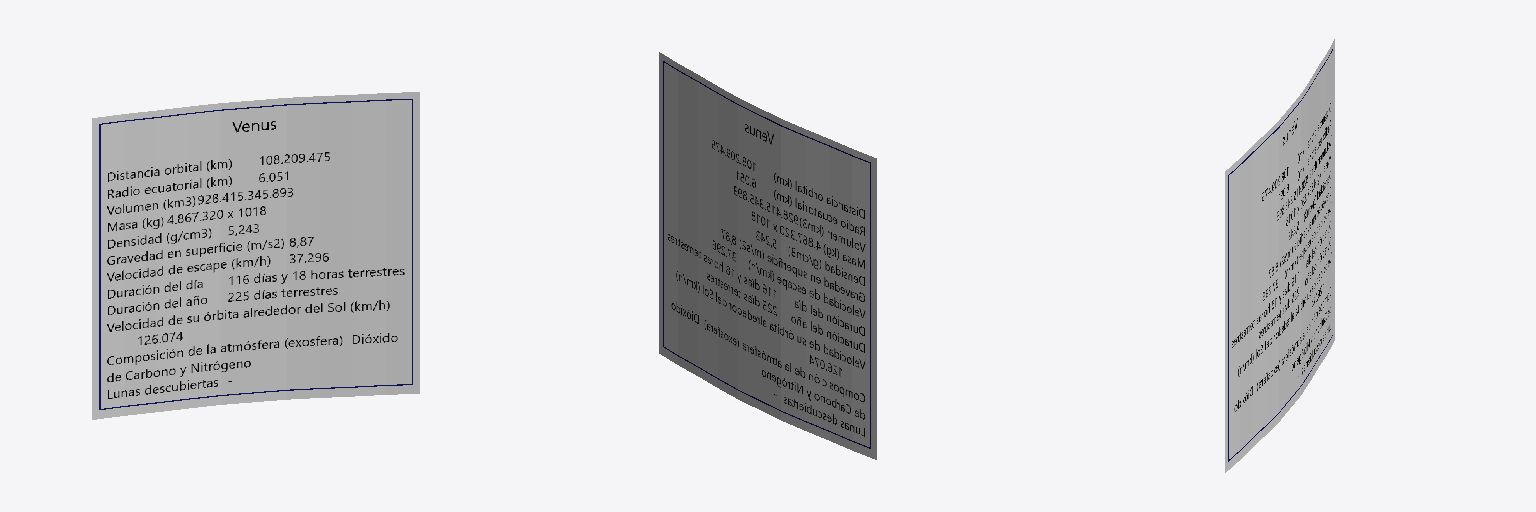
3 renders of one model, left to right at view 1: azimuth 30°, elevation 25°; view 2: azimuth 150°, elevation 25°; view 3: azimuth 270°, elevation 25°, orthographic.
Parts seen in each view (by area): view 1: pPlane1; view 2: pPlane1; view 3: pPlane1.
Part boxes in pixels (x1,y1,x2,y2): pPlane1: (92,92,419,419); pPlane1: (659,52,876,459); pPlane1: (1225,39,1334,472).
Bounding box in the file's own units: 2.83 × 3 × 0.9887.
1 materials, 1 textured.